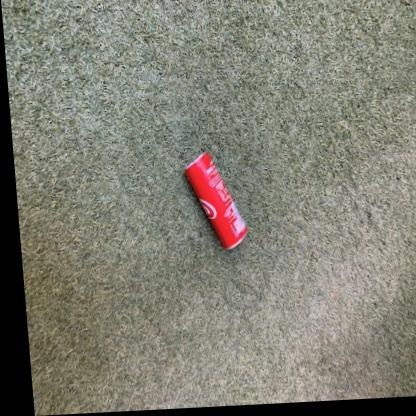trash: (185, 152, 247, 248)
